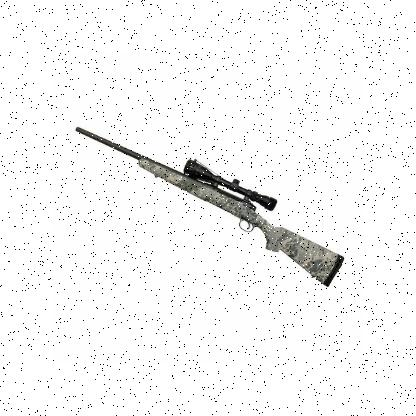gun: (72, 124, 344, 288)
